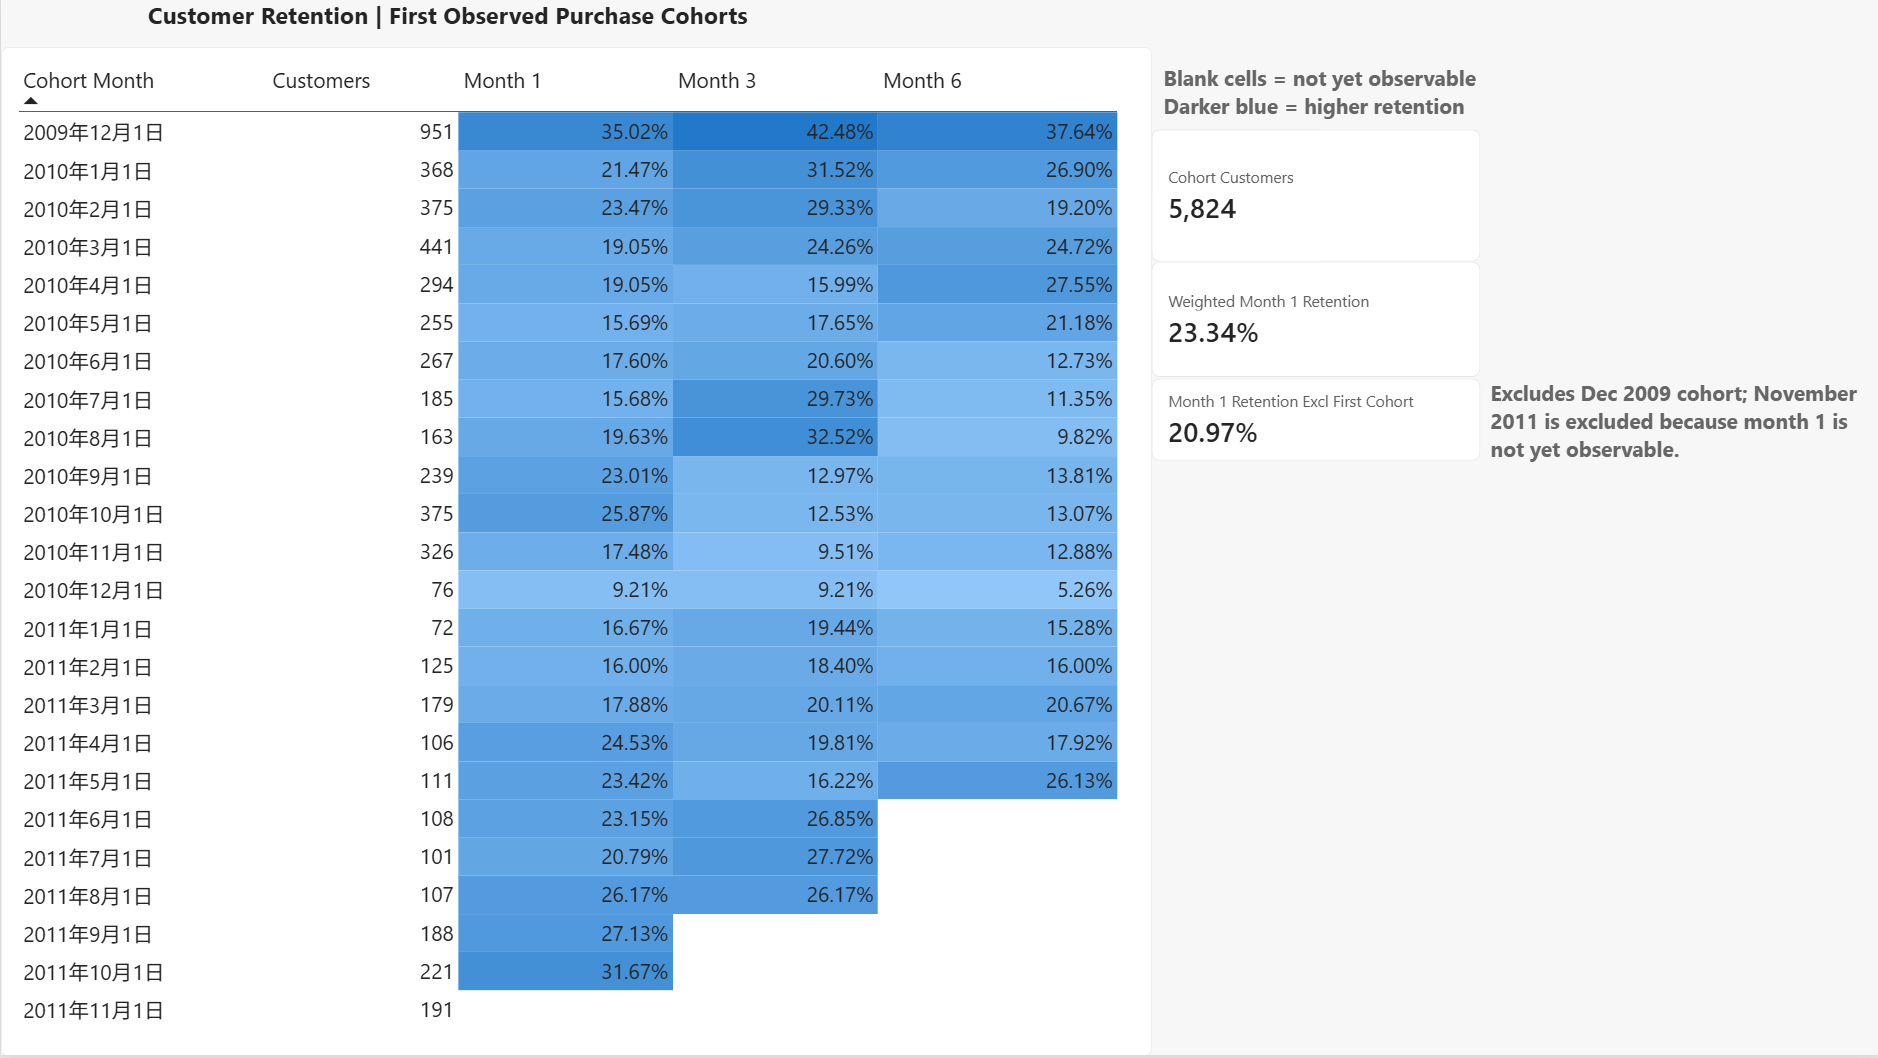

This screenshot's page, from the dashboard's own definition file:
{"tool":"powerbi","page":{"name":"Customer Retention","canvas":[1920,1080],"ordinal":2},"visuals":[{"type":"tableEx","fields":{"Values":["CohortRetention.cohort_month","CohortRetention.cohort_size","CohortRetention.month_1_pct","CohortRetention.month_3_pct","CohortRetention.month_6_pct"]},"box":[0,49.4,1175.8,1031.3],"z":0},{"type":"textbox","box":[150.2,0,656,65.9],"z":1000},{"type":"textbox","box":[223.4,26,917.9,50.2],"z":2000},{"type":"textbox","box":[1188.6,65.8,323.7,219.4],"z":3000},{"type":"cardVisual","fields":{"Data":["Calendar.Cohort Customers"]},"box":[1175.8,133.5,336.5,135.3],"z":4000},{"type":"cardVisual","fields":{"Data":["Calendar.Weighted Month 1 Retention"]},"box":[1175.8,268.8,336.5,118.9],"z":5000},{"type":"cardVisual","fields":{"Data":["Calendar.Month 1 Retention Excl First Cohort"]},"box":[1175.8,387.7,336.5,84.1],"z":6000},{"type":"textbox","box":[1522,387.8,378.6,101.2],"z":7000}]}

Visuals, with their boxes in screenshot pixels (x1, y1, x2, y2), scaled from the page's 1920x1080 canvas onto the 1878x1058 screenshot:
tableEx - CohortRetention.cohort_month x CohortRetention.cohort_size: x1=0 y1=48 x2=1150 y2=1057
textbox: x1=147 y1=0 x2=789 y2=65
textbox: x1=219 y1=25 x2=1116 y2=75
textbox: x1=1163 y1=64 x2=1479 y2=279
cardVisual - Calendar.Cohort Customers: x1=1150 y1=131 x2=1479 y2=263
cardVisual - Calendar.Weighted Month 1 Retention: x1=1150 y1=263 x2=1479 y2=380
cardVisual - Calendar.Month 1 Retention Excl First Cohort: x1=1150 y1=380 x2=1479 y2=462
textbox: x1=1489 y1=380 x2=1859 y2=479
